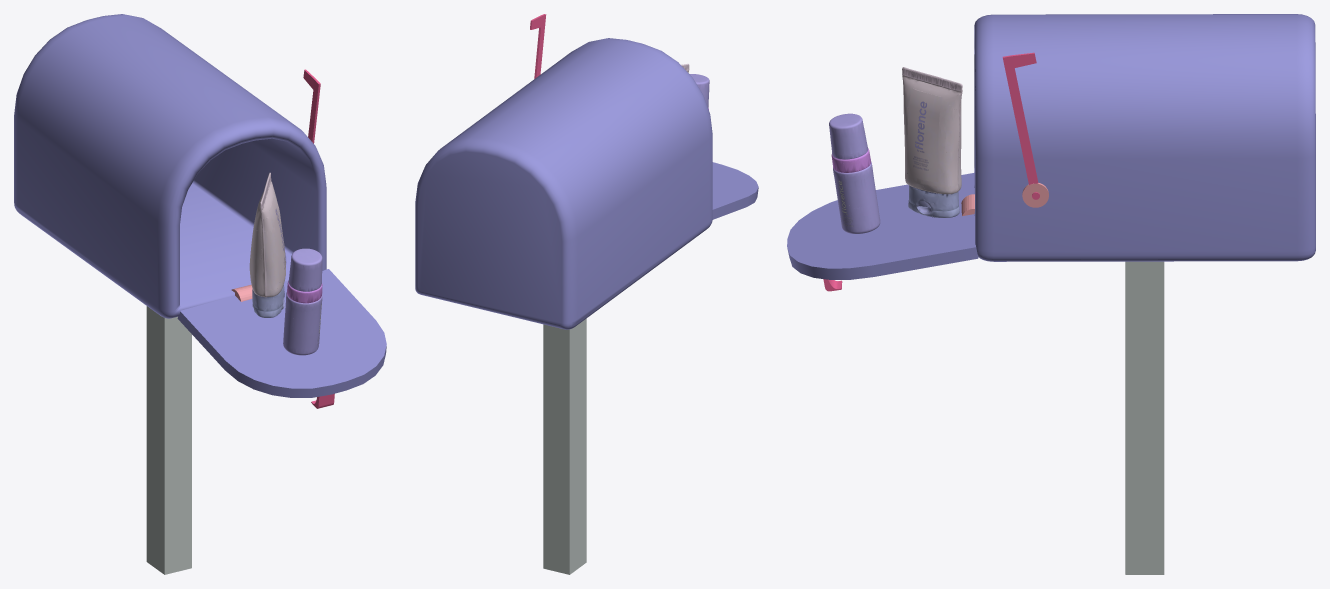
Rendered from asset.glb.
3 views of the same model, side by side, from view 1: azimuth 30°, elevation 25°; view 2: azimuth 150°, elevation 25°; view 3: azimuth 270°, elevation 25° (orthographic). The views are drawn at different scales.
Parts seen in each view (by area): view 1: Cube, Cube.001, Cube.004, Splash, Crema, Plane, Cube.003; view 2: Cube, Cube.004, Cube.001, Cube.003; view 3: Cube, Cube.004, Cube.001, Crema, Splash, Plane, Cube.003.
Boxes of the visible parts, bbox=[...] form: Cube: bbox=[14, 14, 326, 318]; Cube.001: bbox=[177, 269, 386, 397]; Cube.004: bbox=[146, 306, 191, 574]; Splash: bbox=[283, 248, 322, 355]; Crema: bbox=[249, 172, 285, 317]; Plane: bbox=[269, 195, 285, 282]; Cube.003: bbox=[303, 69, 320, 143]; Cube: bbox=[415, 38, 712, 329]; Cube.004: bbox=[543, 318, 586, 574]; Cube.001: bbox=[712, 162, 758, 219]; Cube.003: bbox=[530, 14, 546, 78]; Cube: bbox=[974, 14, 1315, 261]; Cube.004: bbox=[1125, 261, 1164, 574]; Cube.001: bbox=[787, 173, 978, 279]; Crema: bbox=[902, 67, 962, 217]; Splash: bbox=[829, 113, 880, 233]; Plane: bbox=[907, 88, 942, 182]; Cube.003: bbox=[1002, 52, 1038, 184].
Bounding box in the file's own units: 1.44 × 4.15 × 3.55.
9 materials, 5 textured.
